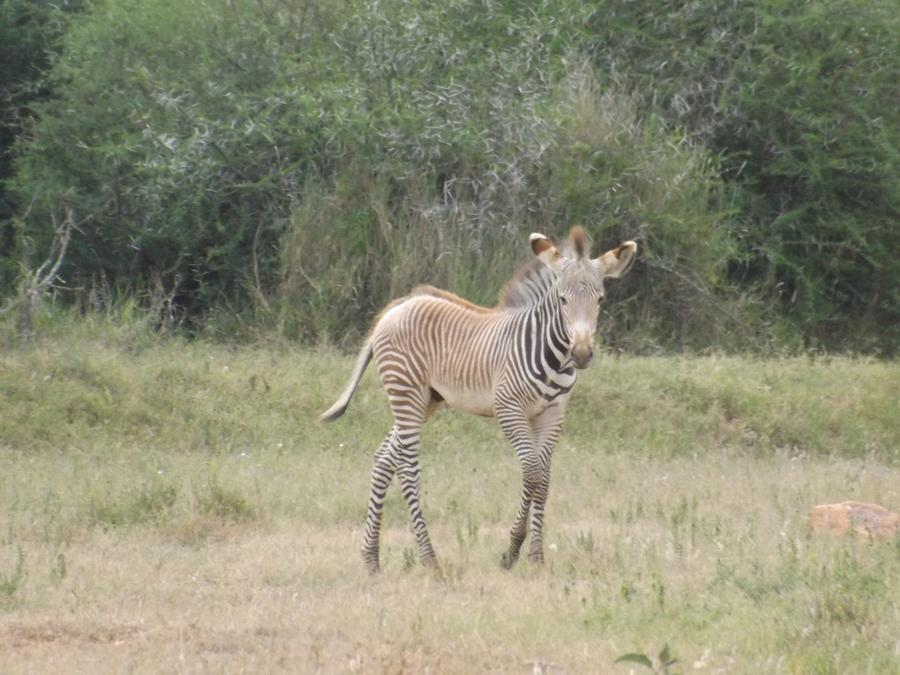zebra_grevys: (367, 266, 540, 413)
